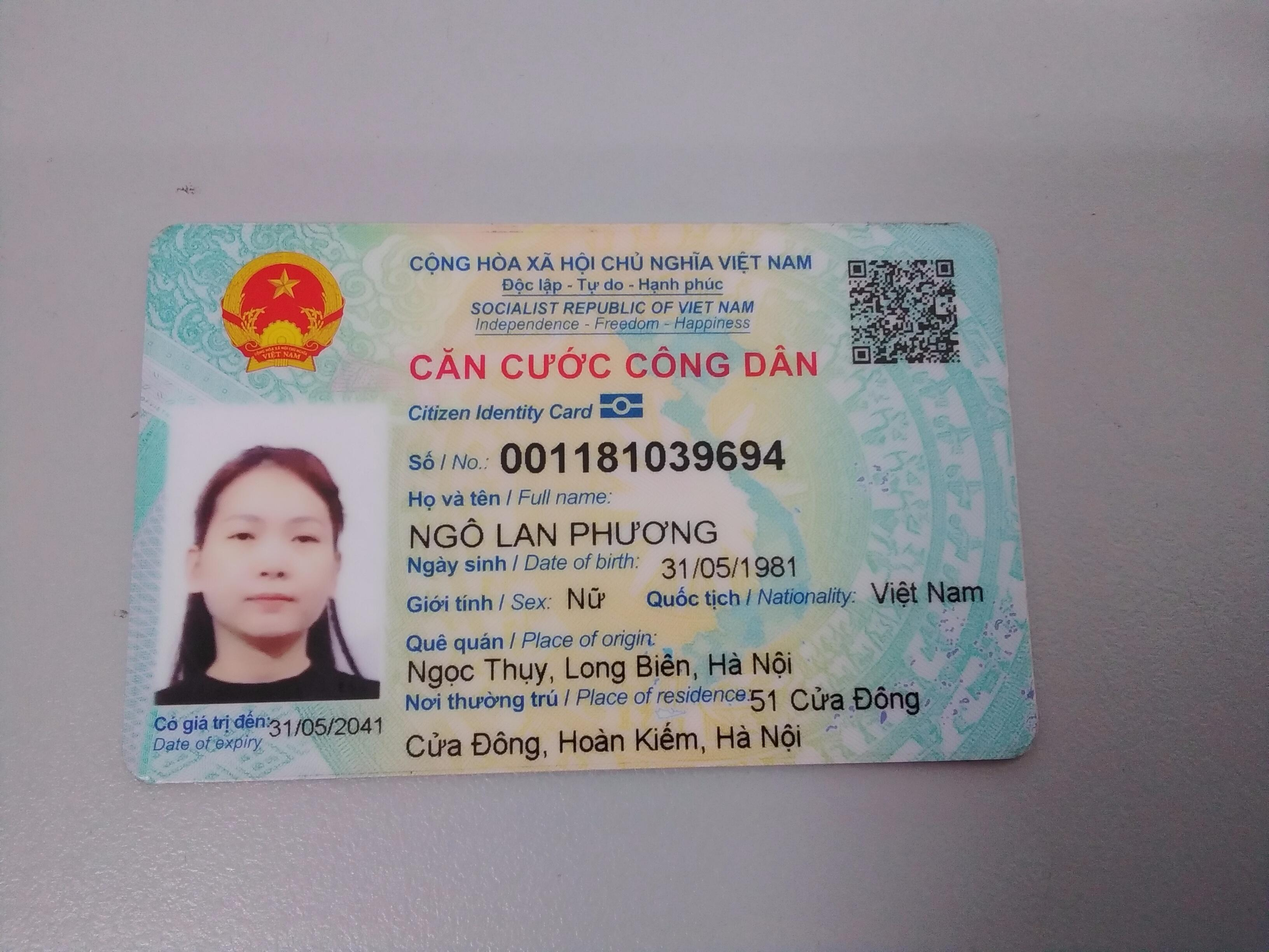ID: (494, 431, 789, 476)
birth: (654, 548, 807, 587)
name: (405, 512, 729, 555)
place: (407, 645, 802, 690)
residence: (402, 724, 832, 759), (750, 684, 921, 721), (828, 724, 831, 725)
